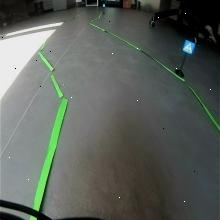crosswalk: (182, 38, 196, 56)
